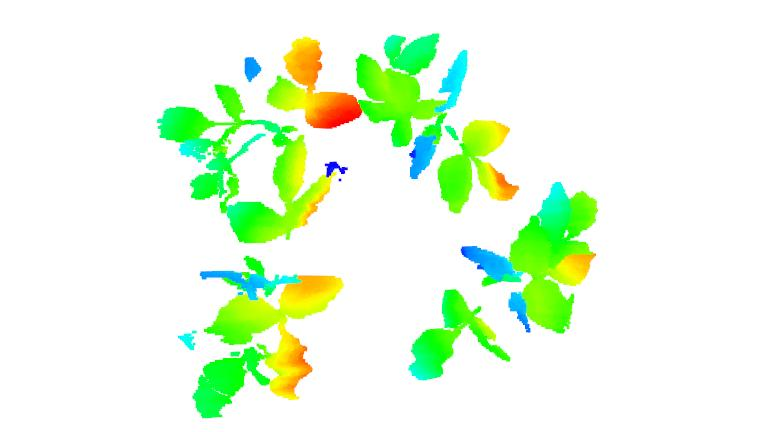mungbean: (192, 143, 343, 417), (406, 177, 605, 384), (153, 33, 356, 198), (357, 34, 519, 213)
